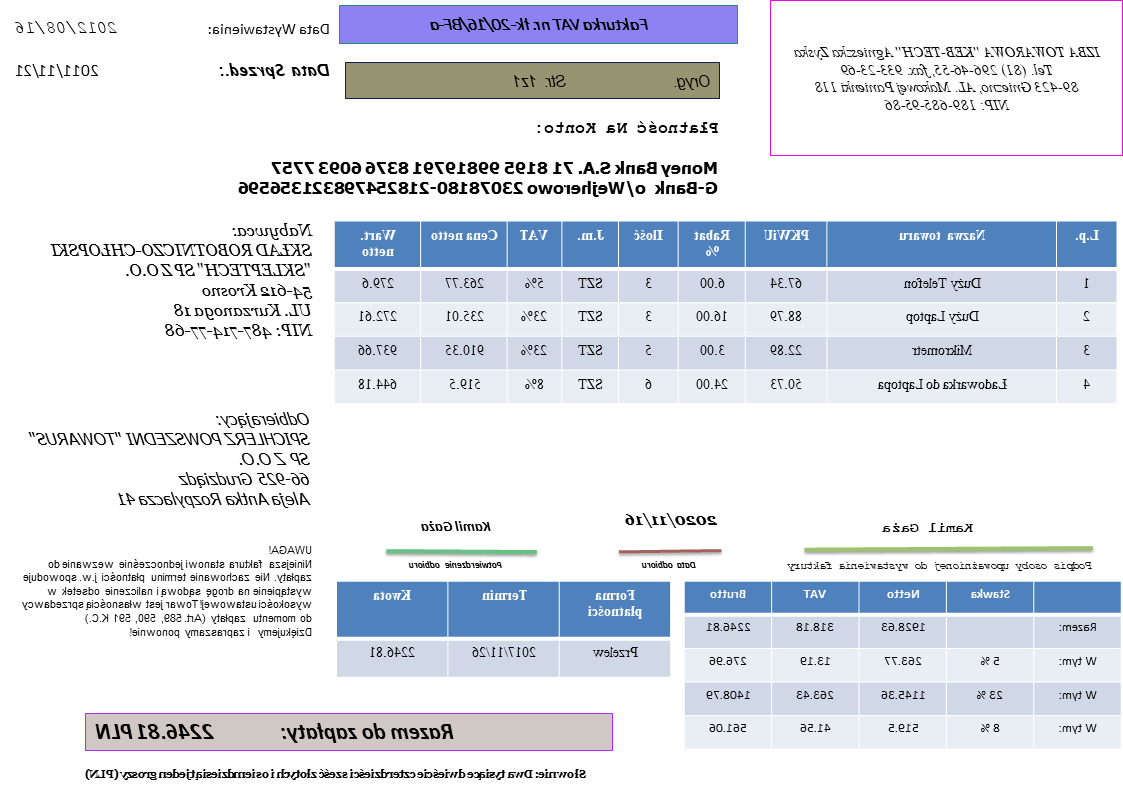Table: (334, 218, 1119, 405), (684, 580, 1122, 749), (336, 579, 672, 678)
TextBox: (48, 219, 316, 343), (23, 408, 314, 511), (17, 541, 316, 641), (792, 39, 1103, 115), (235, 156, 721, 200), (92, 718, 458, 745), (83, 764, 590, 783), (785, 557, 1095, 575), (426, 14, 654, 36), (510, 70, 713, 93), (535, 118, 723, 139), (211, 60, 334, 82), (205, 19, 333, 37), (12, 17, 120, 38), (623, 509, 721, 530), (877, 519, 976, 537), (12, 61, 103, 80), (408, 556, 505, 572), (418, 517, 496, 535), (638, 558, 700, 572)
